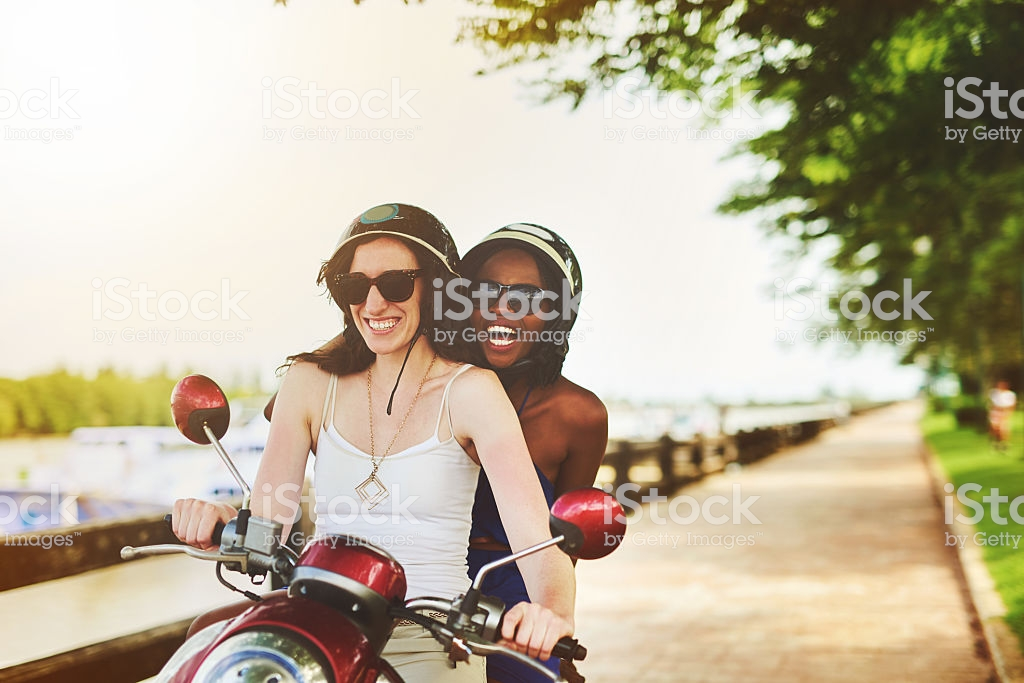helmet: (470, 209, 586, 304), (320, 191, 458, 265)
